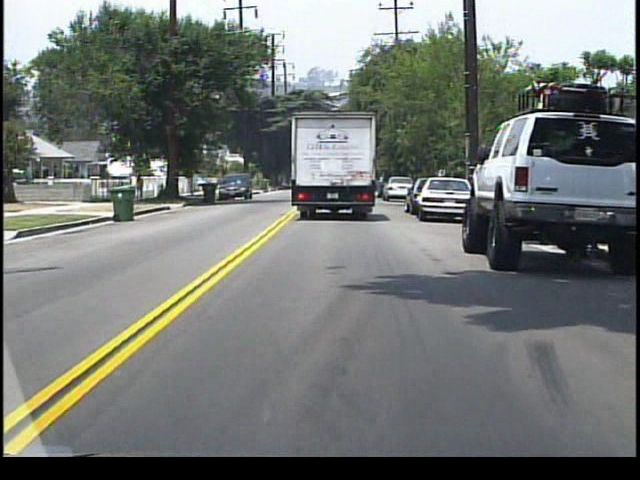person: (135, 172, 146, 201)
